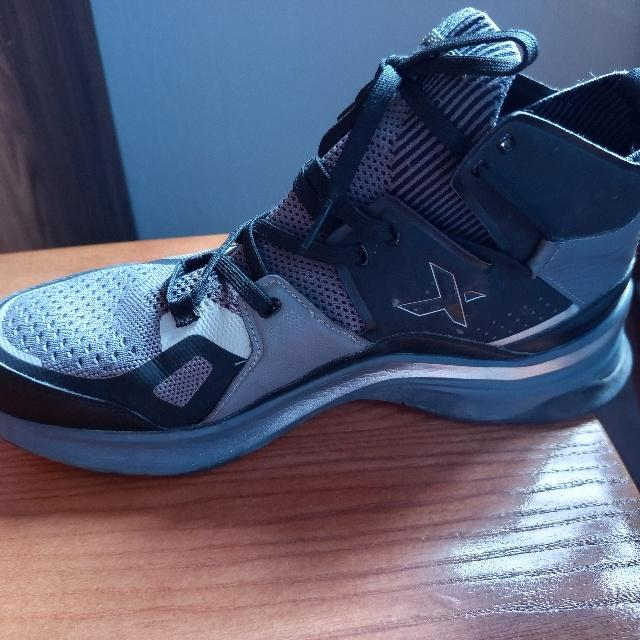broken: (306, 308, 324, 326)
